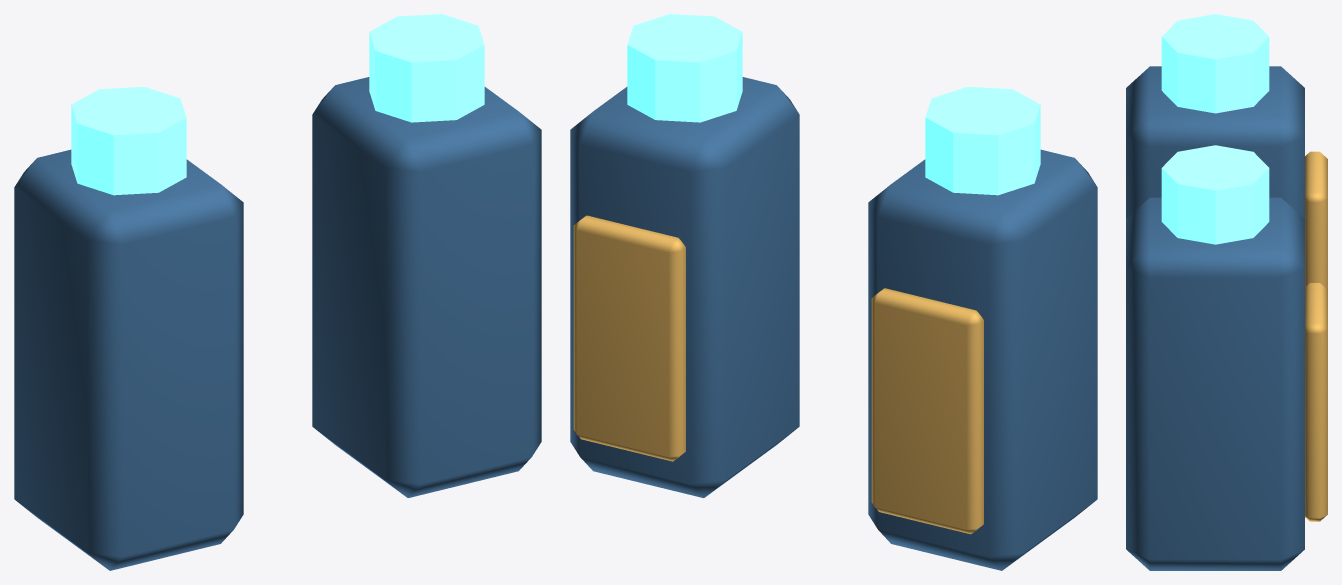
File: side_pods.glb
3 renders of one model, left to right at view 1: azimuth 30°, elevation 25°; view 2: azimuth 150°, elevation 25°; view 3: azimuth 270°, elevation 25°, orthographic. The views are drawn at different scales.
Visible parts, largest first — view 1: pod | shell.001, pod | shell, pod | nozzle.001, pod | nozzle; view 2: pod | shell.001, pod | shell, pod | armor cap, pod | armor cap.001, pod | nozzle.001, pod | nozzle; view 3: pod | shell.001, pod | shell, pod | nozzle, pod | nozzle.001, pod | armor cap.001, pod | armor cap.
Part boxes in pixels (<box>): pod | shell.001: <box>312,77,541,497</box>; pod | shell: <box>14,149,243,570</box>; pod | nozzle.001: <box>369,14,484,122</box>; pod | nozzle: <box>71,86,186,195</box>; pod | shell.001: <box>570,77,799,497</box>; pod | shell: <box>868,149,1097,570</box>; pod | armor cap: <box>871,288,983,534</box>; pod | armor cap.001: <box>573,215,685,461</box>; pod | nozzle.001: <box>627,14,742,122</box>; pod | nozzle: <box>925,86,1040,195</box>; pod | shell.001: <box>1126,197,1304,570</box>; pod | shell: <box>1126,66,1304,218</box>; pod | nozzle: <box>1161,14,1269,113</box>; pod | nozzle.001: <box>1161,145,1269,244</box>; pod | armor cap.001: <box>1305,283,1327,521</box>; pod | armor cap: <box>1305,151,1327,289</box>.
Bounding box in the file's own units: 2.38 × 2.1 × 1.01.
